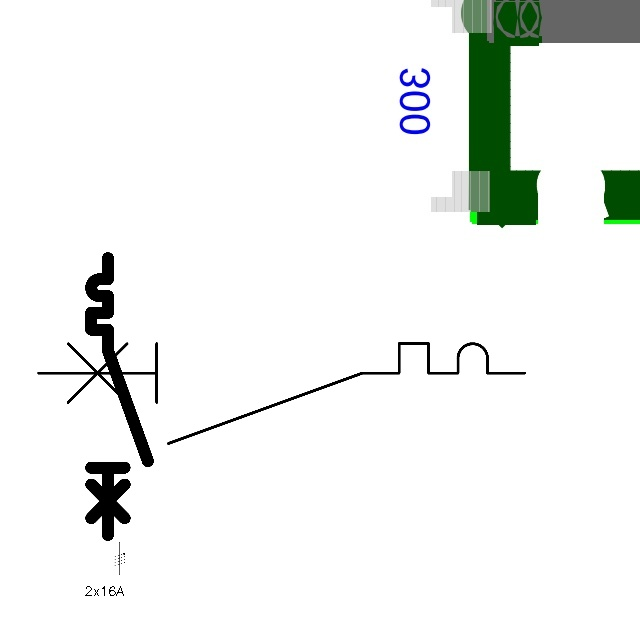interruptor_termomagnetico: (26, 331, 537, 456), (84, 251, 155, 542)
